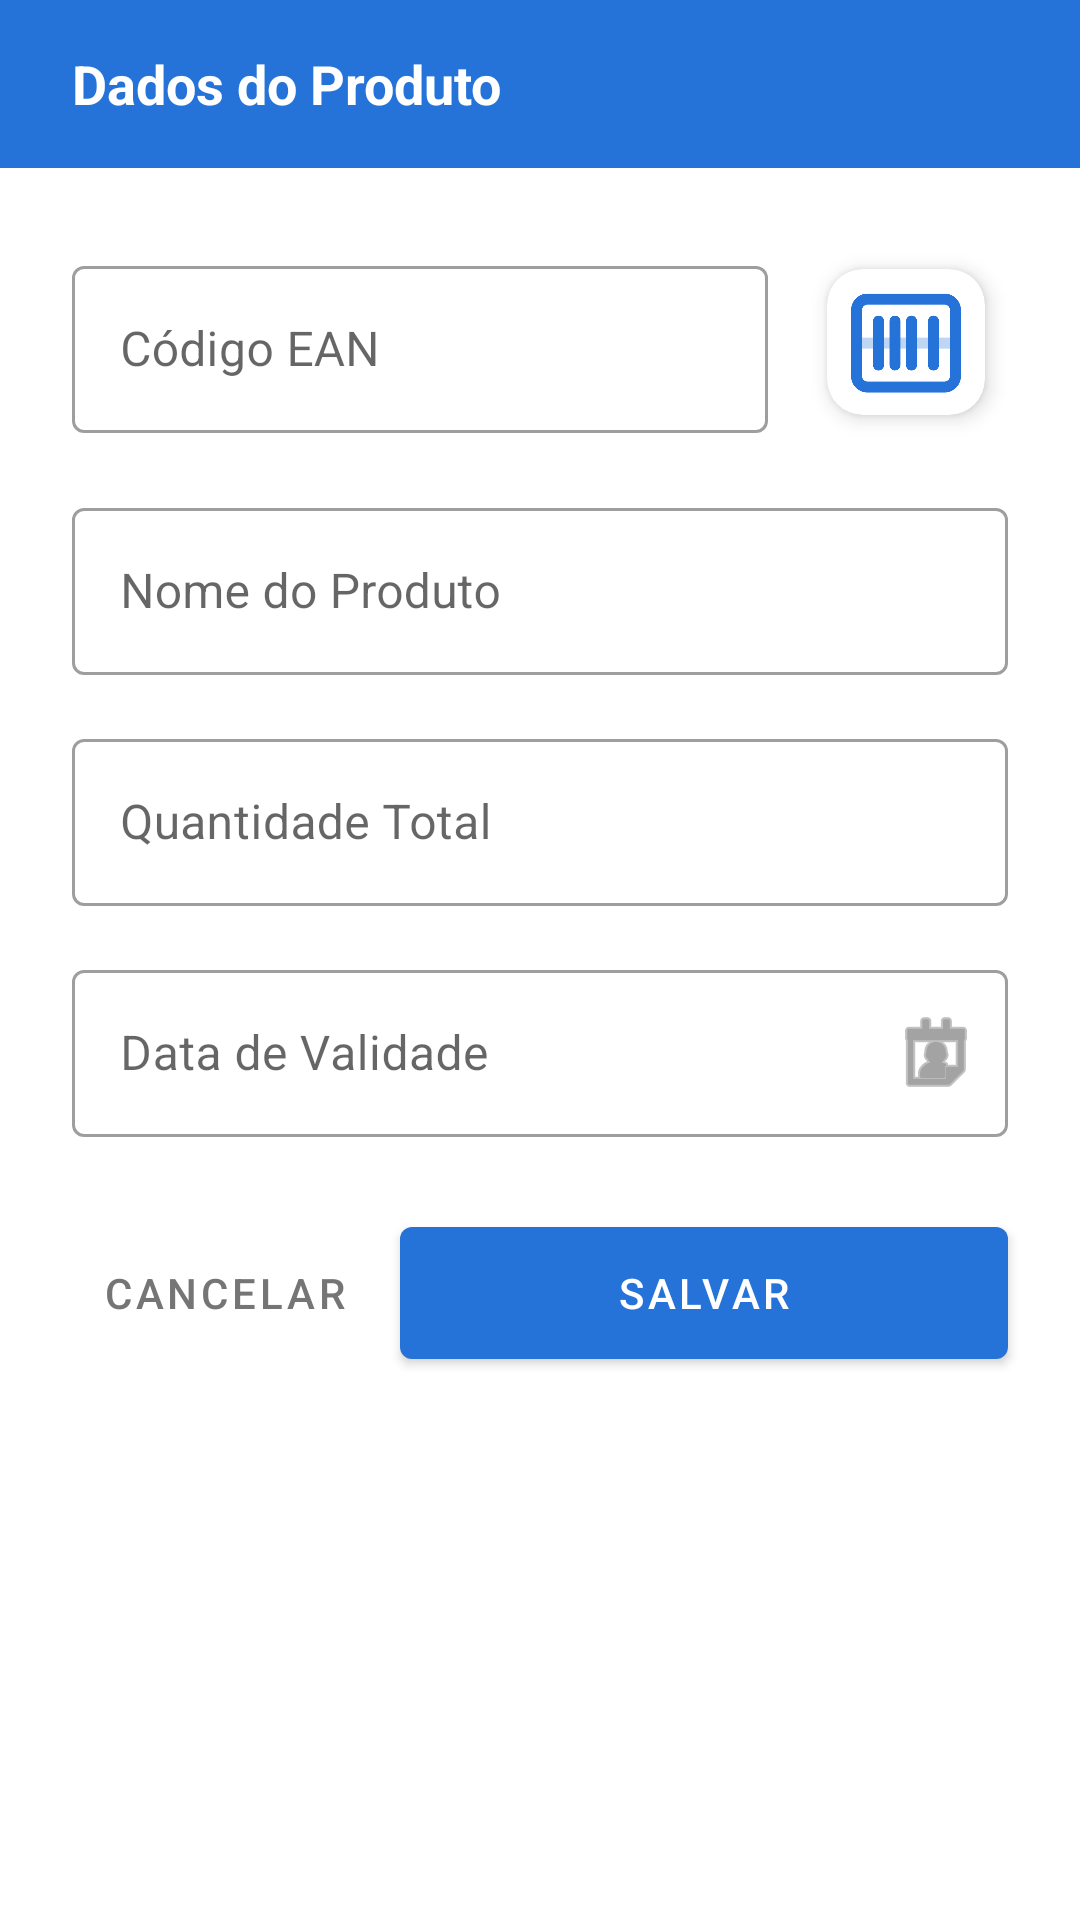

Icon click points for this 1080 x 1920 phone screenshot, format [x,y]:
Escanear EAN: [912,345]
